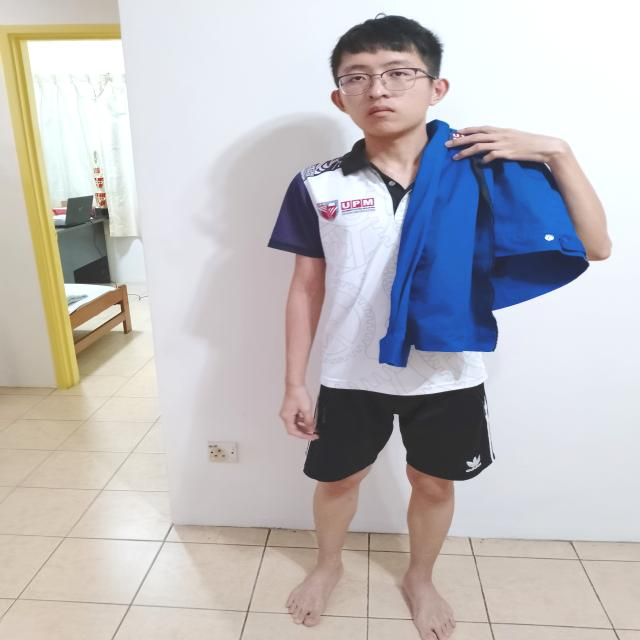person_without_labcoat: (269, 16, 610, 640)
